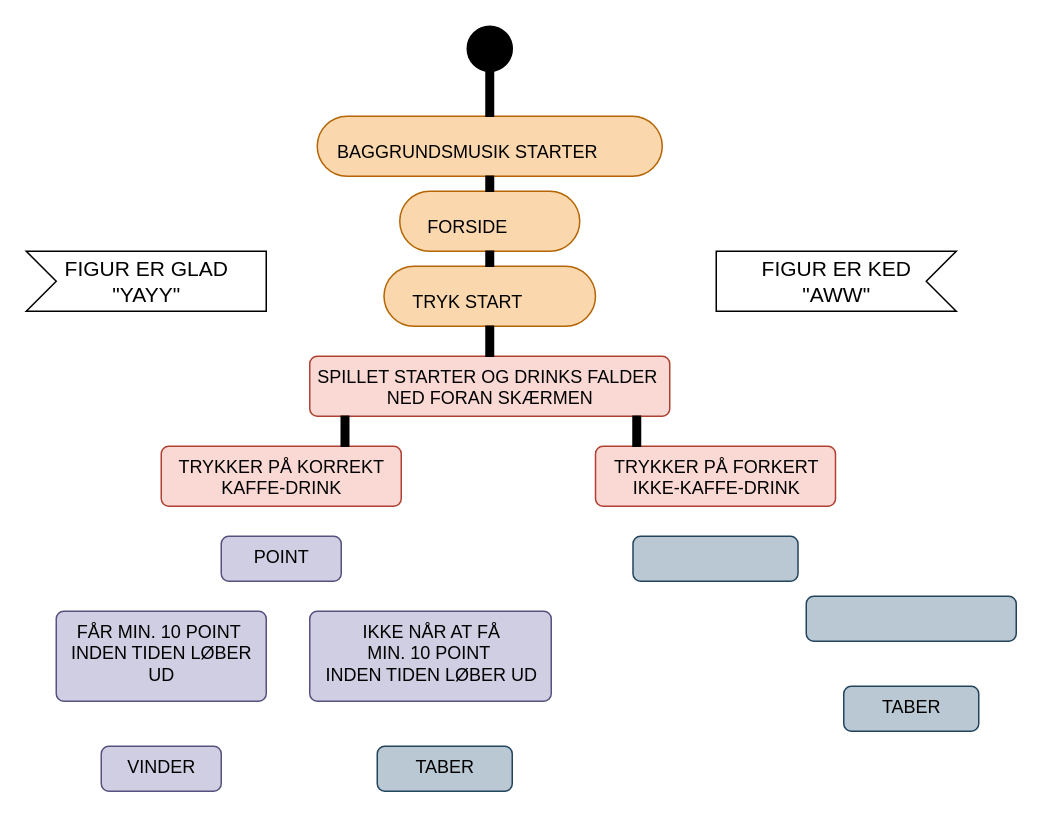
This 1043x818 diagram has some shape labels left out. The centre of each missing label's shape, as x and y in pixels:
"MISTER ALLE 3 LIV" goes at (x=910, y=618).
"MISTER ET LIV" goes at (x=715, y=558).
